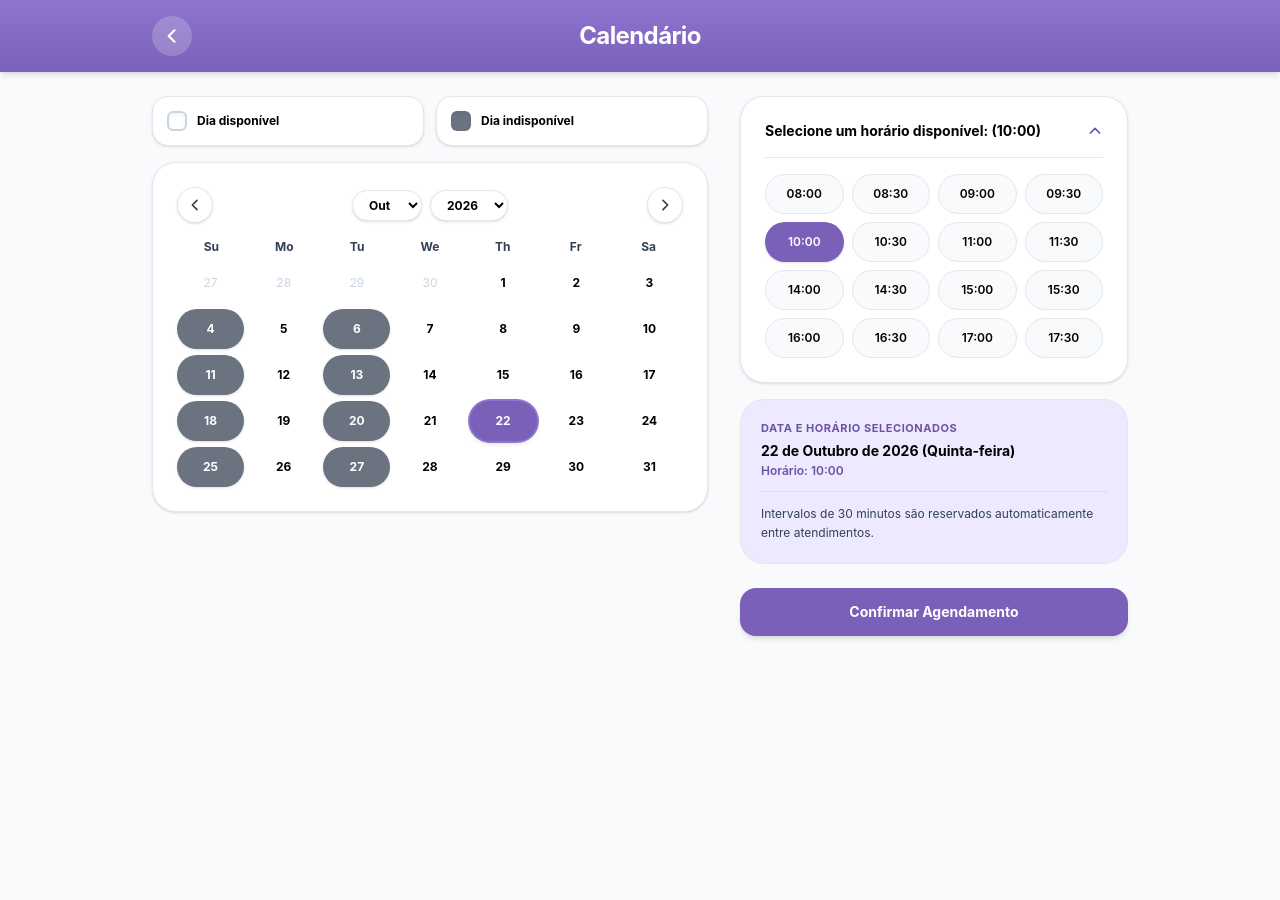
Test: AgendamentoFlowPage › permite selecionar data e horário no Calendário e avançar para confirmação
// Seleciona um dia disponível (ex: dia 23)
Click the button with test id "dia-disponivel-2026-10-23".
click(576, 421)  # box [543, 401, 610, 441]
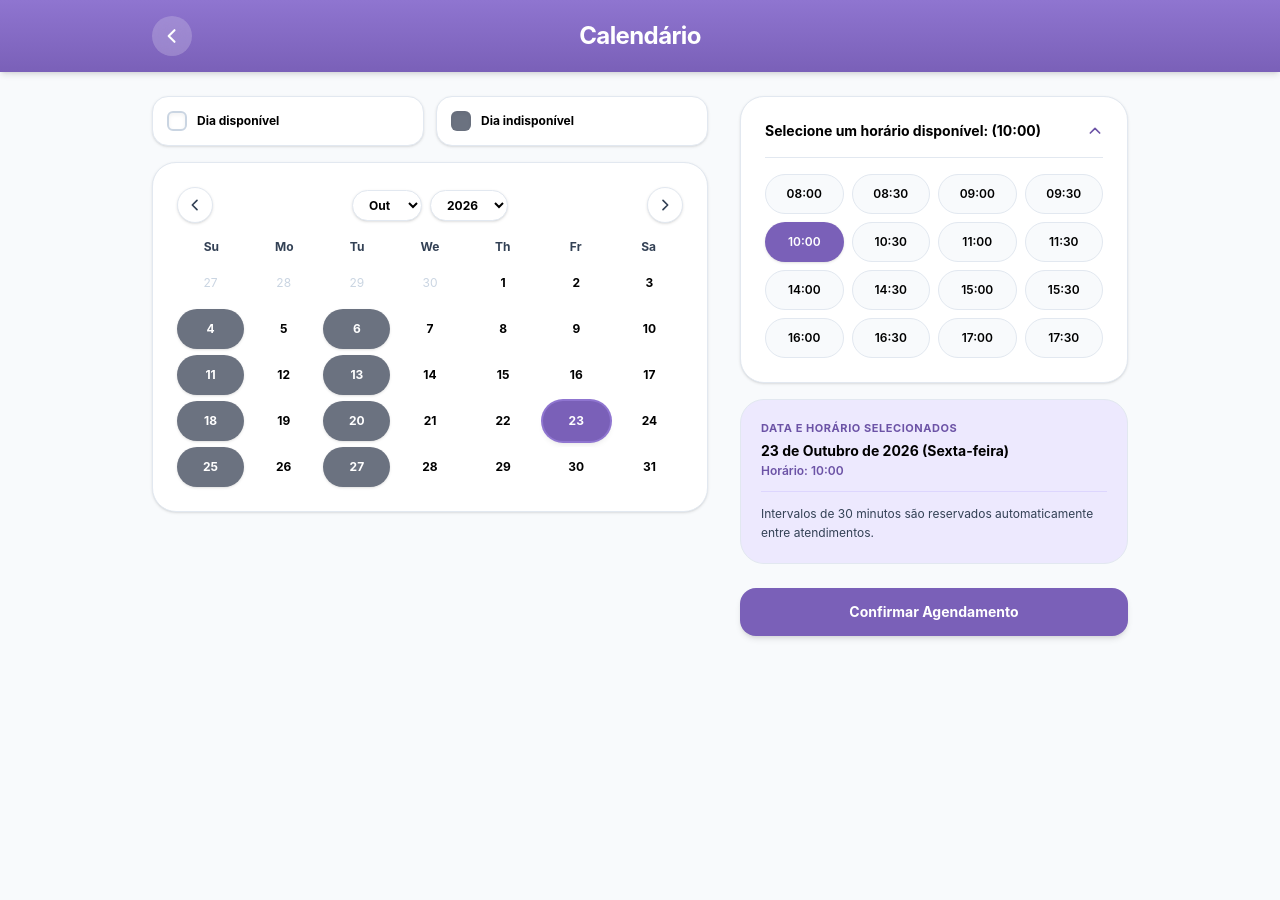
// Seleciona um slot de horário (ex: 11:00)
Click the button with test id "slot-hora-11:00".
click(977, 242)  # box [938, 222, 1016, 262]
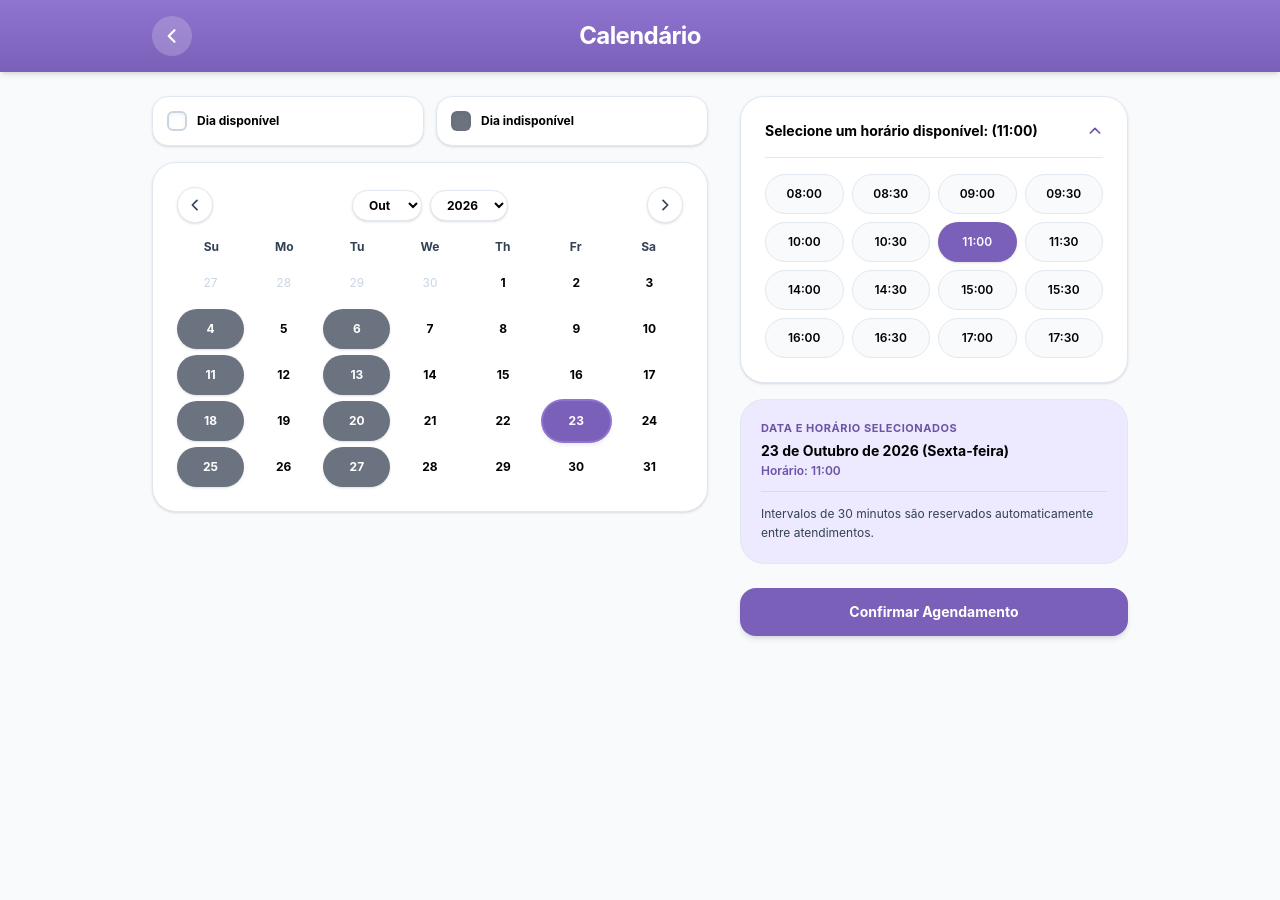
// Clica em Confirmar Agendamento
Click the button with test id "confirmar-agendamento-btn".
click(934, 612)  # box [740, 588, 1128, 636]
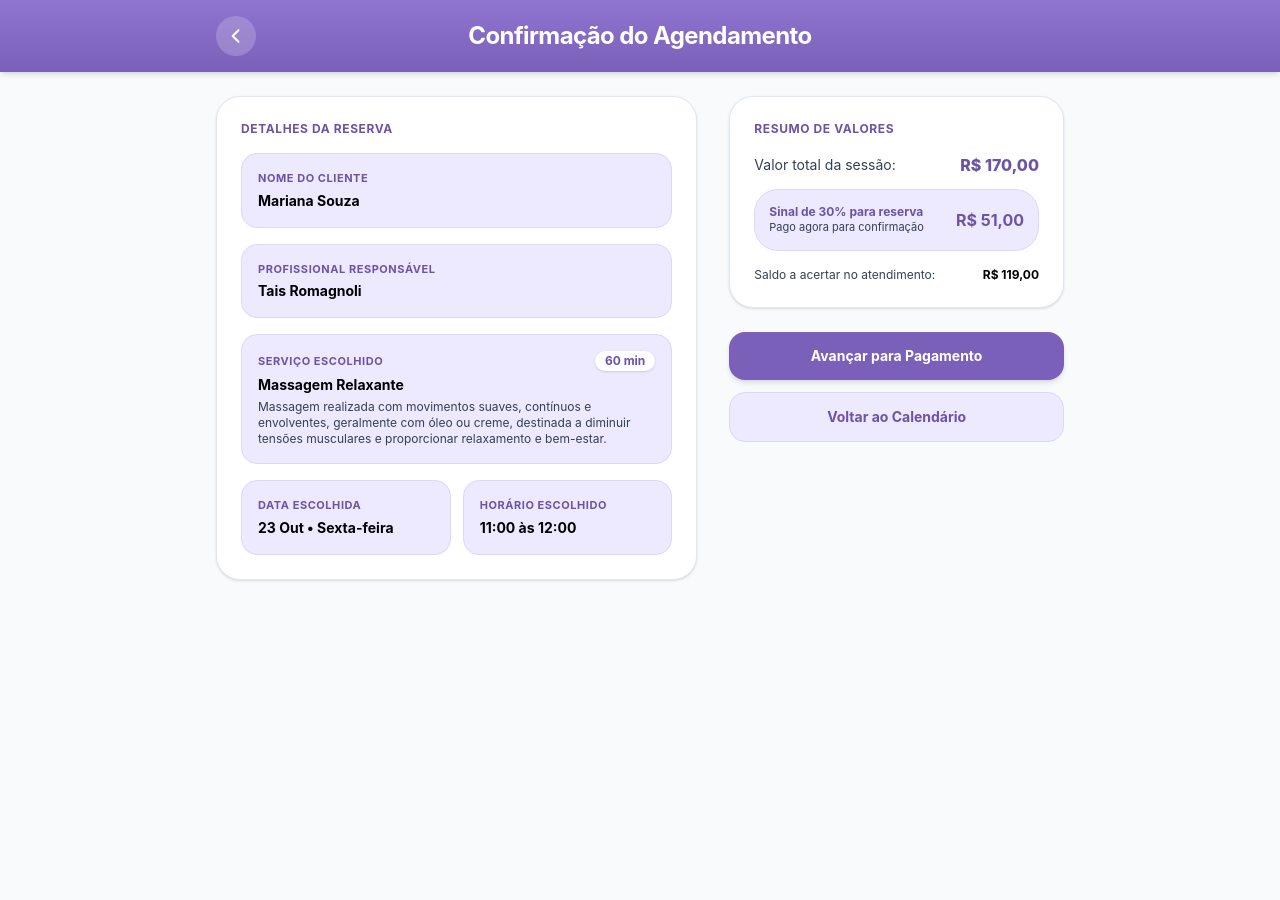
Check: the heading "Confirmação do Agendamento" is shown, box [468, 20, 812, 52]
Check: the text "Nome do cliente" is shown, box [258, 171, 368, 185]
Check: the text with test id "nome-cliente-display" reads "Mariana Souza", box [258, 192, 360, 208]
